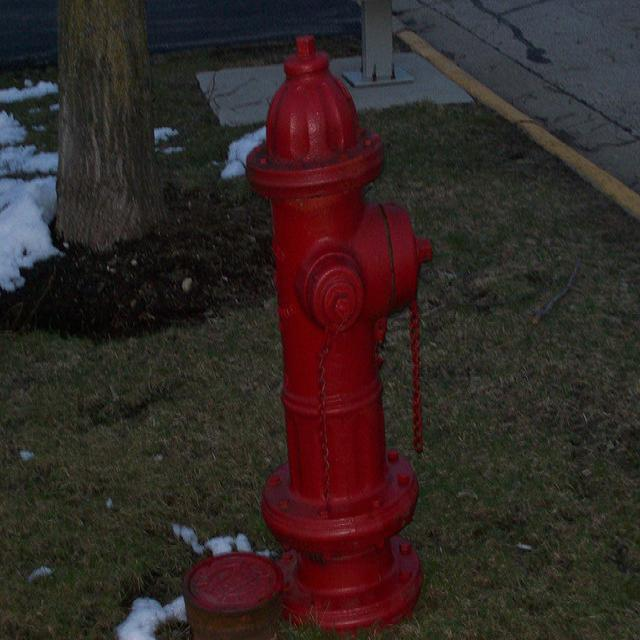fire_hydrant: (245, 36, 433, 632)
